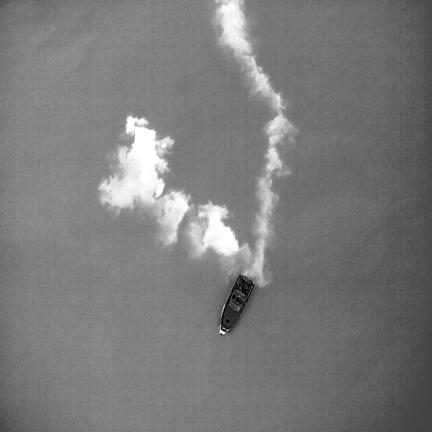flukeprints: (99, 116, 173, 208), (191, 202, 239, 256), (154, 192, 189, 244)
